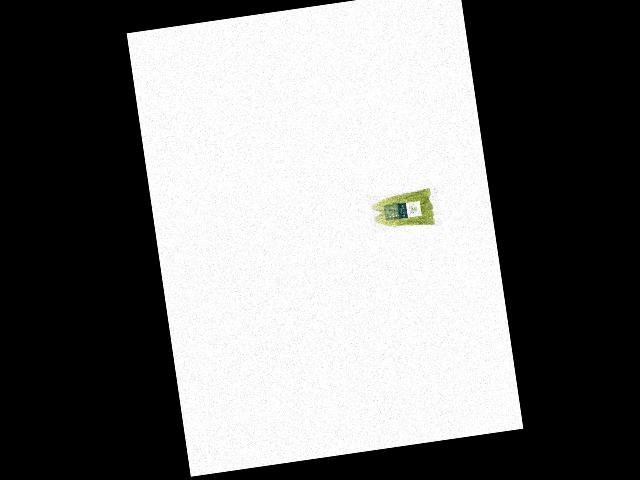lettuce: (368, 182, 437, 233)
